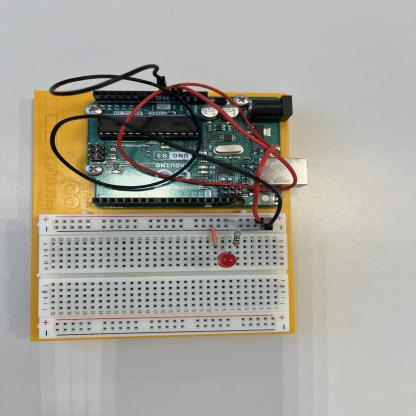5V: (110, 81, 289, 191)
ARDUINO: (88, 93, 286, 209)
Breadboard: (38, 213, 291, 340)
GND: (44, 112, 203, 194)
LED: (217, 252, 237, 268)
Resistor: (232, 230, 241, 247)
Short wire: (211, 228, 217, 245)
